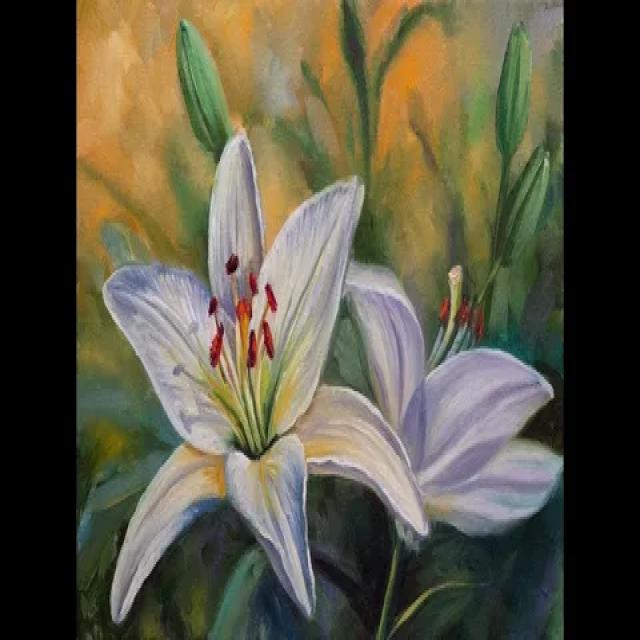lily: (93, 122, 436, 617)
